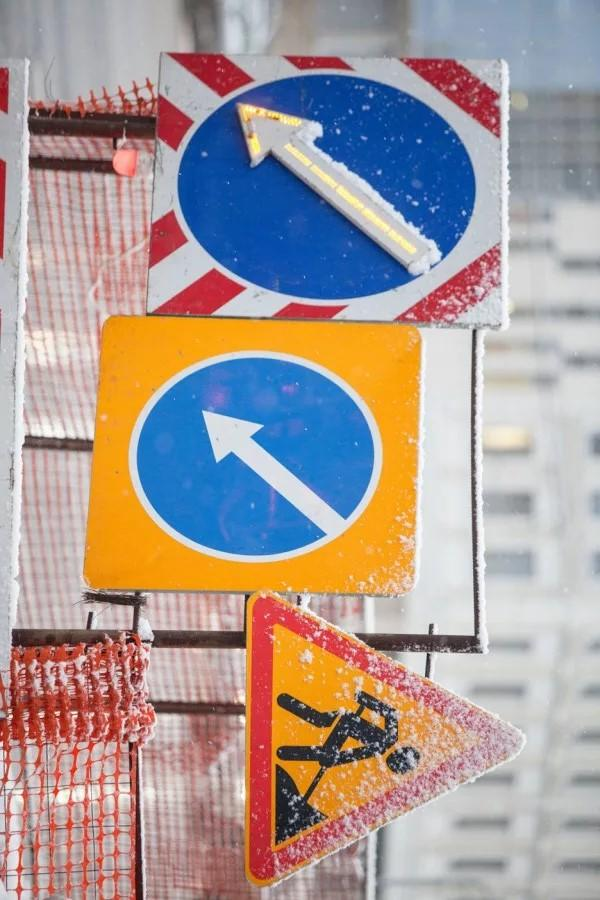obstructed_road_sign: (144, 50, 510, 329), (246, 591, 527, 888)
road_sign: (83, 313, 423, 599)
